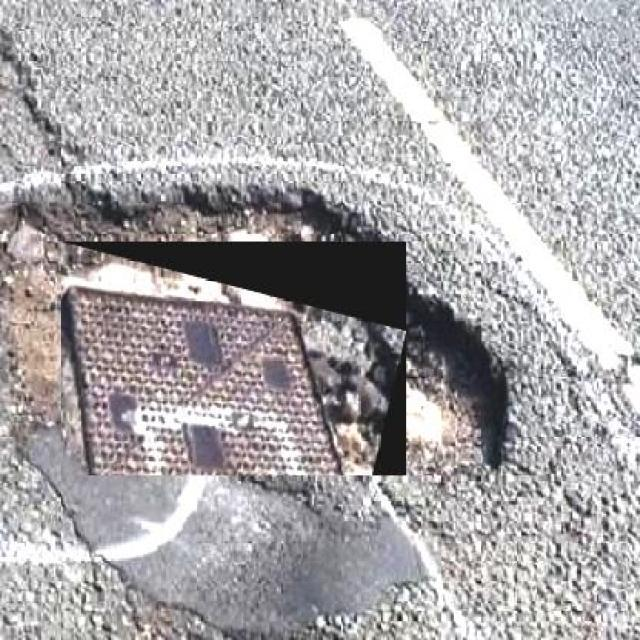Manhole: (60, 242, 406, 476)
Pothole: (46, 175, 383, 238), (410, 282, 516, 480), (5, 198, 62, 299)
